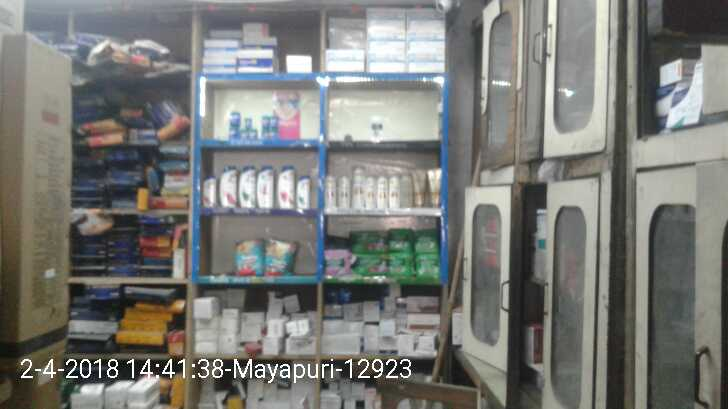vicks: (226, 109, 280, 140)
